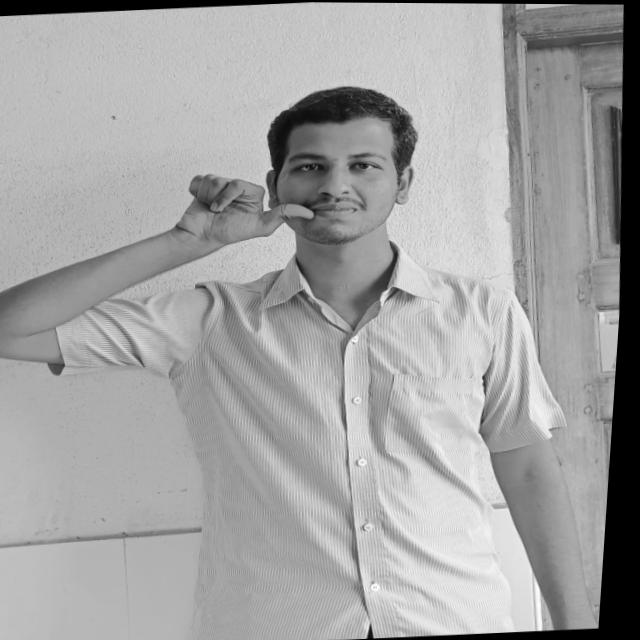Drink: (181, 167, 325, 245)
